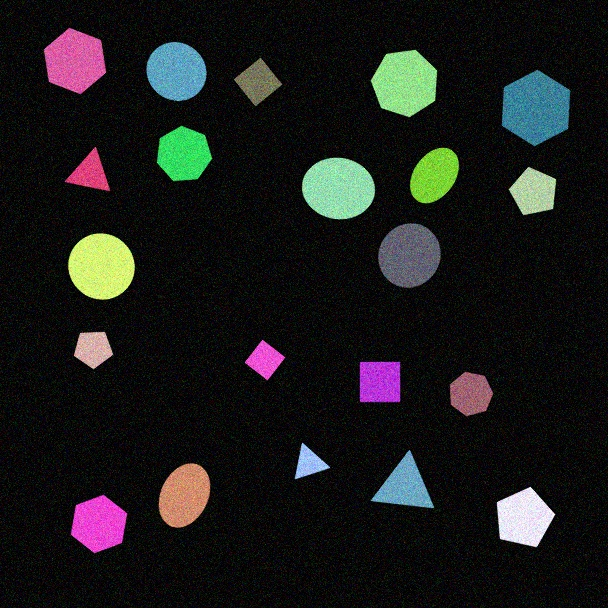Circulo: (67, 233, 136, 300), (377, 222, 442, 289), (146, 41, 207, 102)
Elipse: (301, 157, 376, 220), (158, 463, 211, 528), (409, 147, 460, 204)
Heptagono: (370, 49, 438, 118), (156, 125, 213, 182), (449, 371, 494, 417)
Hexagono: (501, 69, 571, 147), (43, 27, 107, 95), (70, 494, 128, 554)
Pentagono: (496, 486, 556, 548), (508, 166, 557, 216), (73, 331, 114, 370)
Quadrado: (233, 57, 283, 107), (244, 339, 286, 381), (359, 361, 401, 403)
Triangulo: (370, 450, 435, 509), (64, 147, 111, 192), (294, 442, 331, 480)
